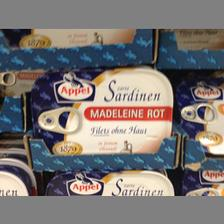Fisch: (30, 68, 174, 154), (42, 170, 174, 194)
